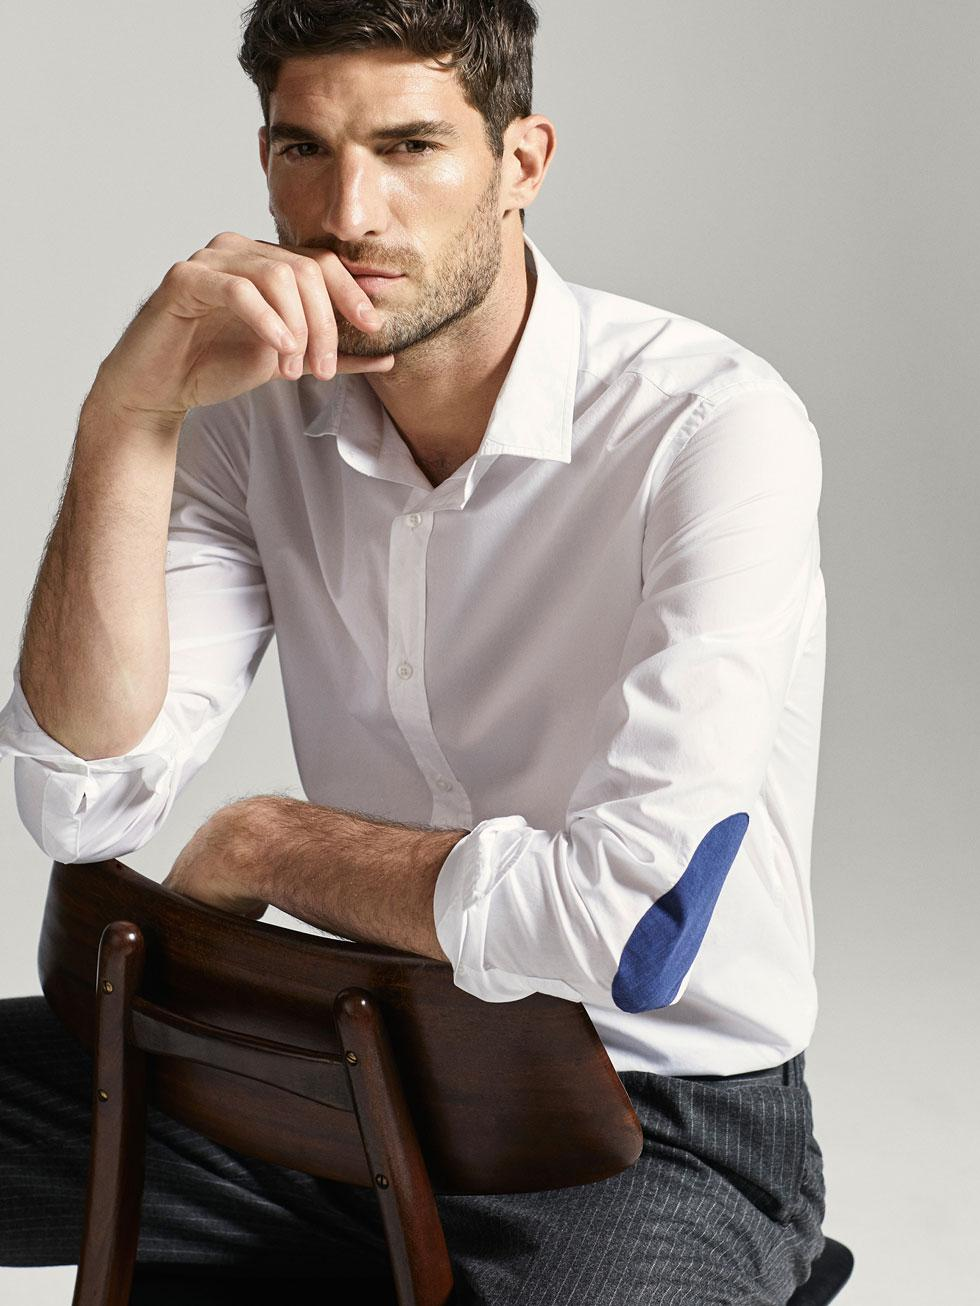teeshirt: (13, 227, 829, 1141)
